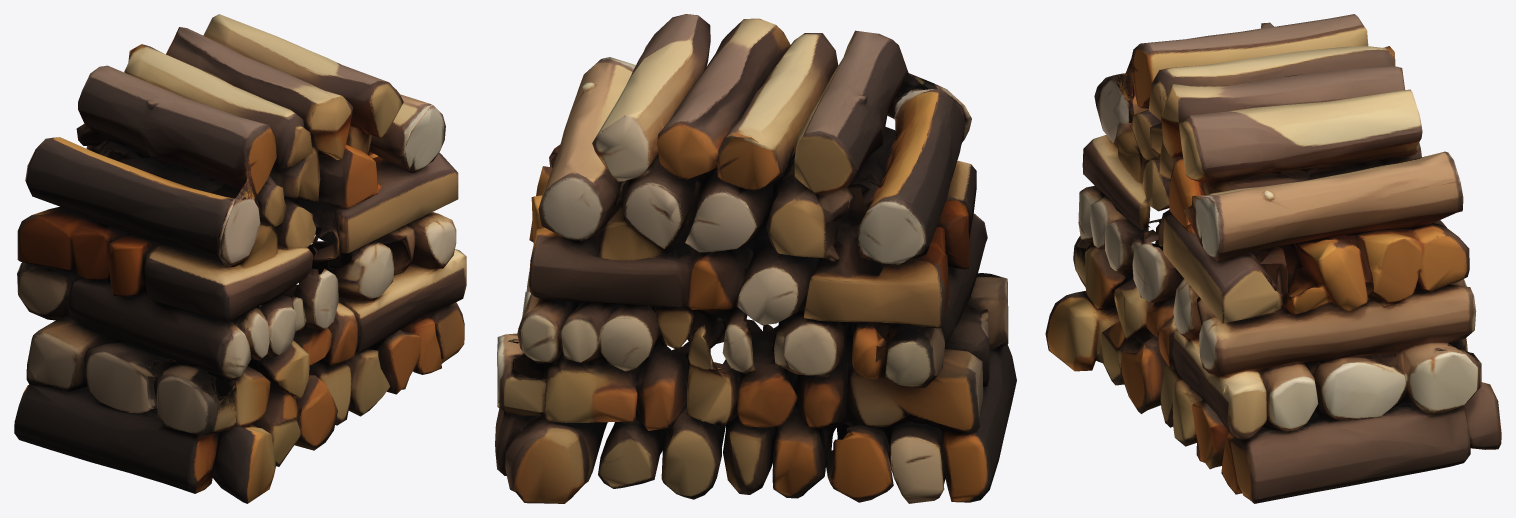
The model's file is wood_pile.glb.
The picture shows the model from 3 angles, left to right: view 1: azimuth 30°, elevation 25°; view 2: azimuth 150°, elevation 25°; view 3: azimuth 270°, elevation 25°; orthographic projection. The views are drawn at different scales.
Parts seen in each view (by area): view 1: world; view 2: world; view 3: world.
Boxes of the visible parts, x1,y1,x2,y2 form: world: [14, 14, 466, 503]; world: [495, 14, 1016, 503]; world: [1045, 14, 1501, 503].
Bounding box in the file's own units: 0.9134 × 0.6677 × 0.8065.
Materials: 1 (1 with a texture image).
